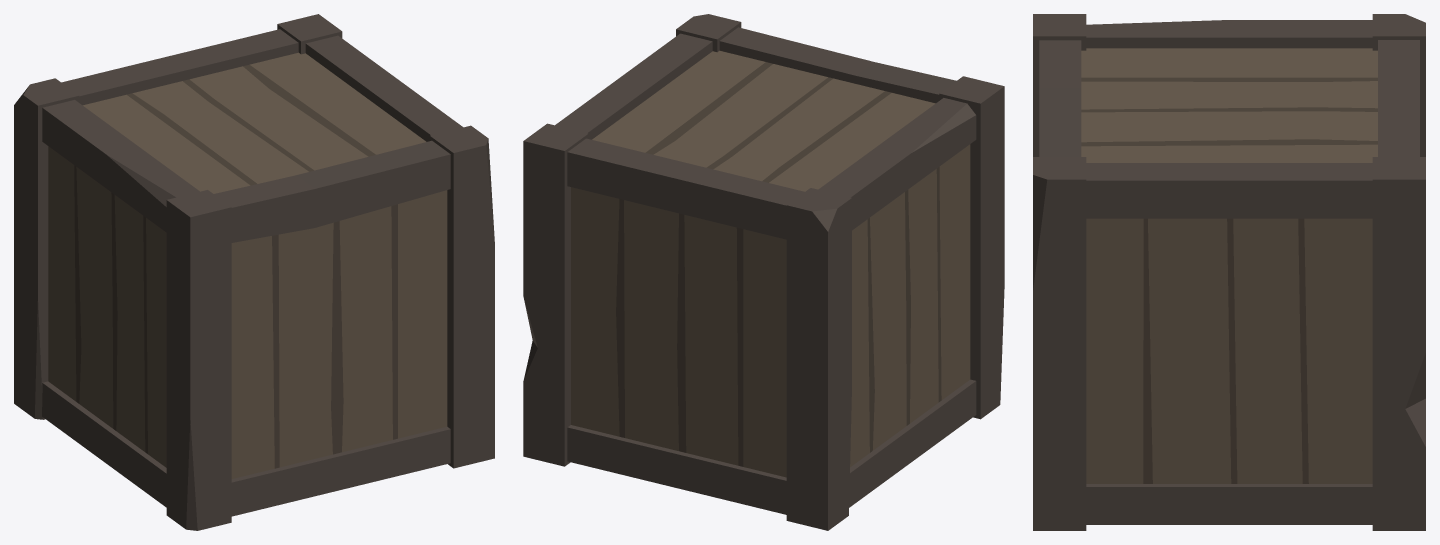
File: SM_Props_Farm_Crate_01.fbx
3 renders of one model, left to right at view 1: azimuth 30°, elevation 25°; view 2: azimuth 150°, elevation 25°; view 3: azimuth 270°, elevation 25°, orthographic. The views are drawn at different scales.
Visible parts, largest first — view 1: SM_Props_Farm_Crate_01; view 2: SM_Props_Farm_Crate_01; view 3: SM_Props_Farm_Crate_01.
Part boxes in pixels (left/top/right/bottom): SM_Props_Farm_Crate_01: left=14, top=14, right=494, bottom=530; SM_Props_Farm_Crate_01: left=523, top=14, right=1004, bottom=530; SM_Props_Farm_Crate_01: left=1033, top=14, right=1425, bottom=530.
Size of the model in its own units: 85.67 by 84.79 by 85.91.
